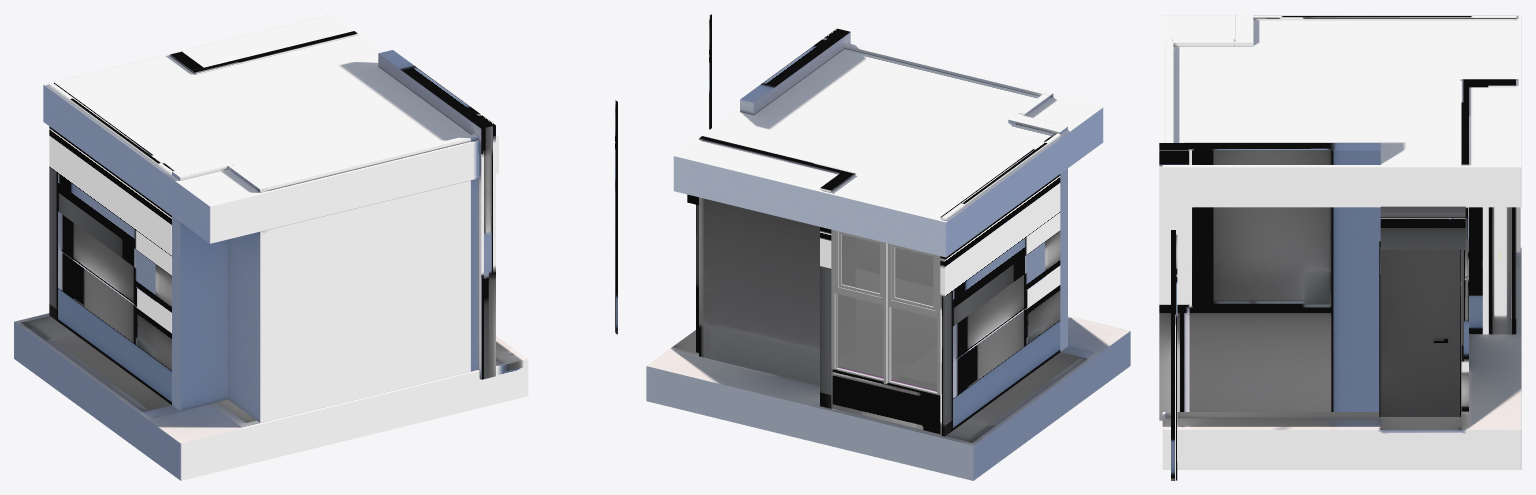
The picture shows the model from 3 angles, left to right: view 1: azimuth 30°, elevation 25°; view 2: azimuth 150°, elevation 25°; view 3: azimuth 270°, elevation 25°; orthographic projection. The views are drawn at different scales.
Parts seen in each view (by area): view 1: 立方体.002, 立方体.001, 立方体.003; view 2: 立方体.001, 立方体.002, 立方体.003, 物件_228.002, 立方体.004, 物件_69, 物件_402, 物件_50, 立方体; view 3: 立方体.001, 立方体.002, 立方体.003, 物件_1086, 物件_50.
Part boxes in pixels (x1,y1,x2,y2): 立方体.002: (49, 31, 617, 422); 立方体.001: (43, 14, 498, 243); 立方体.003: (14, 313, 528, 480); 立方体.001: (673, 49, 1103, 257); 立方体.002: (687, 14, 1067, 436); 立方体.003: (646, 269, 1130, 480); 物件_228.002: (837, 235, 936, 391); 立方体.004: (837, 234, 937, 390); 物件_69: (832, 351, 940, 433); 物件_402: (831, 229, 940, 395); 物件_50: (820, 173, 851, 408); 立方体: (898, 348, 936, 388); 立方体.001: (1162, 15, 1521, 207); 立方体.002: (1159, 14, 1516, 480); 立方体.003: (1162, 247, 1521, 469); 物件_1086: (1380, 247, 1460, 416); 物件_50: (1469, 79, 1516, 334).
Bounding box in the file's own units: 60.48 × 36.77 × 40.05.
15 materials, 7 textured.
